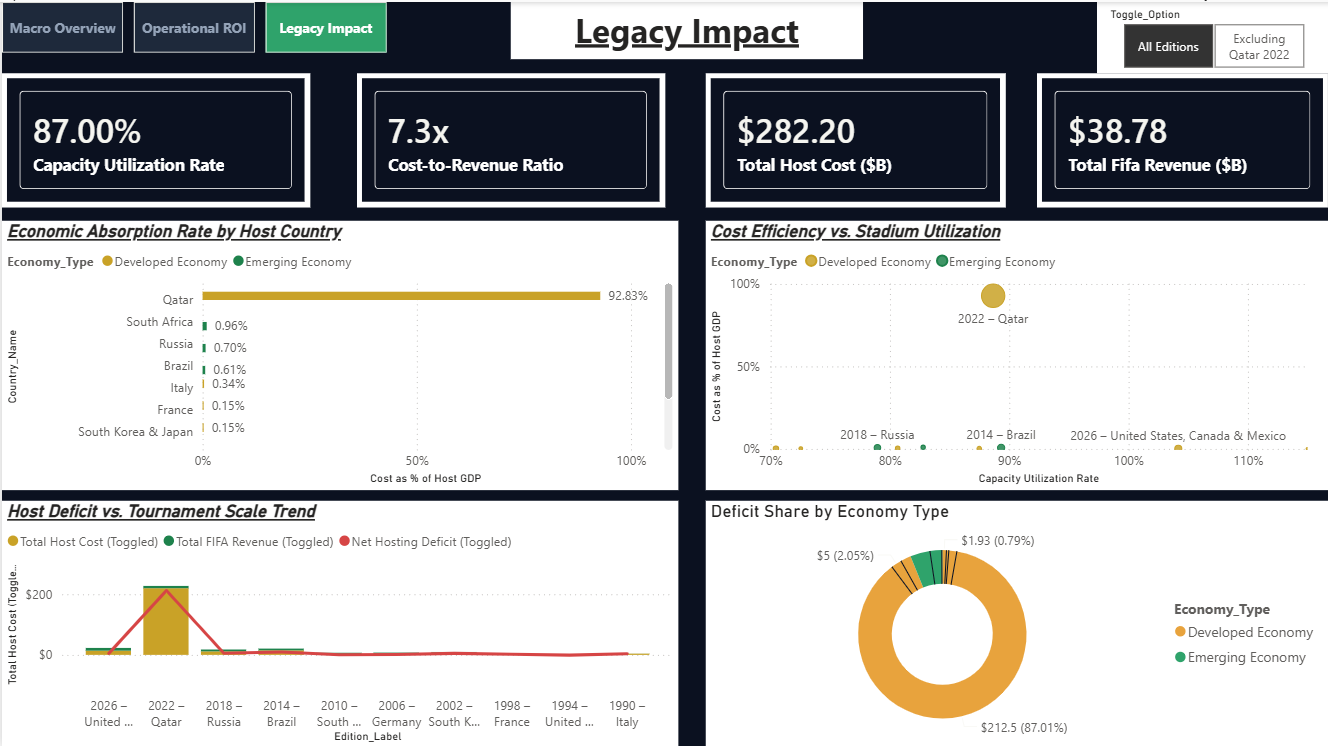

This screenshot's page, from the dashboard's own definition file:
{"tool":"powerbi","page":{"name":"Legacy Impact","canvas":[1280,720],"ordinal":2},"visuals":[{"type":"slicer","fields":{"Values":["Dim_Outlier_Toggle.Toggle_Option"]},"box":[1056.3,0,223.7,68.6],"z":0},{"type":"cardVisual","fields":{"Data":["Measure.Total Host Cost (Toggled)"]},"box":[679,68.2,289.4,129.4],"z":1000},{"type":"cardVisual","fields":{"Data":["Measure.Total FIFA Revenue (Toggled)"]},"box":[999,68.2,281,129.4],"z":2000},{"type":"cardVisual","fields":{"Data":["Measure.Cost-to-Revenue Ratio (Toggled)"]},"box":[342.3,68.2,297.7,129.4],"z":3000},{"type":"cardVisual","fields":{"Data":["Measure.Capacity Utilization Rate"]},"box":[0,68.2,297.7,129.4],"z":4000},{"type":"clusteredBarChart","title":"Economic Absorption Rate by Host Country","fields":{"Category":["Dim_Host_Country.Country_Name"],"Y":["Measure.Cost as % of Host GDP"],"Series":["Dim_Host_Country.Economy_Type"]},"box":[0,211.5,652.5,260.2],"z":5000},{"type":"textbox","box":[491,0,340.2,55.5],"z":6000},{"type":"scatterChart","title":"Cost Efficiency vs. Stadium Utilization","fields":{"X":["Measure.Capacity Utilization Rate"],"Y":["Measure.Cost as % of Host GDP"],"Category":["Dim_Edition.Edition_Label"],"Size":["Measure.Total Host Cost (Toggled)"],"Series":["Dim_Host_Country.Economy_Type"]},"box":[679,211.5,601,260.2],"z":7000},{"type":"lineStackedColumnComboChart","title":"Host Deficit vs. Tournament Scale Trend","fields":{"Category":["Dim_Edition.Edition_Label"],"Y":["Measure.Total Host Cost (Toggled)","Measure.Total FIFA Revenue (Toggled)"],"Y2":["Measure.Net Hosting Deficit (Toggled)"]},"box":[0,481,653,239],"z":8000},{"type":"donutChart","title":"Deficit Share by Economy Type","fields":{"Category":["Dim_Host_Country.Economy_Type"],"Series":["Dim_Host_Country.Country_Name"],"Y":["Measure.Net Hosting Deficit (Toggled)"]},"box":[679,481,601,239],"z":9000},{"type":"pageNavigator","box":[0,0,374,49.5],"z":10000}]}

Visuals, with their boxes in screenshot pixels (x1, y1, x2, y2), scaled from the page's 1280x720 canvas onto the 1328x746 screenshot:
slicer - Dim_Outlier_Toggle.Toggle_Option: x1=1096, y1=0, x2=1327, y2=71
cardVisual - Measure.Total Host Cost (Toggled): x1=704, y1=71, x2=1005, y2=205
cardVisual - Measure.Total FIFA Revenue (Toggled): x1=1036, y1=71, x2=1327, y2=205
cardVisual - Measure.Cost-to-Revenue Ratio (Toggled): x1=355, y1=71, x2=664, y2=205
cardVisual - Measure.Capacity Utilization Rate: x1=0, y1=71, x2=309, y2=205
"Economic Absorption Rate by Host Country" clusteredBarChart: x1=0, y1=219, x2=677, y2=489
textbox: x1=509, y1=0, x2=862, y2=58
"Cost Efficiency vs. Stadium Utilization" scatterChart: x1=704, y1=219, x2=1327, y2=489
"Host Deficit vs. Tournament Scale Trend" lineStackedColumnComboChart: x1=0, y1=498, x2=677, y2=745
"Deficit Share by Economy Type" donutChart: x1=704, y1=498, x2=1327, y2=745
pageNavigator: x1=0, y1=0, x2=388, y2=51
